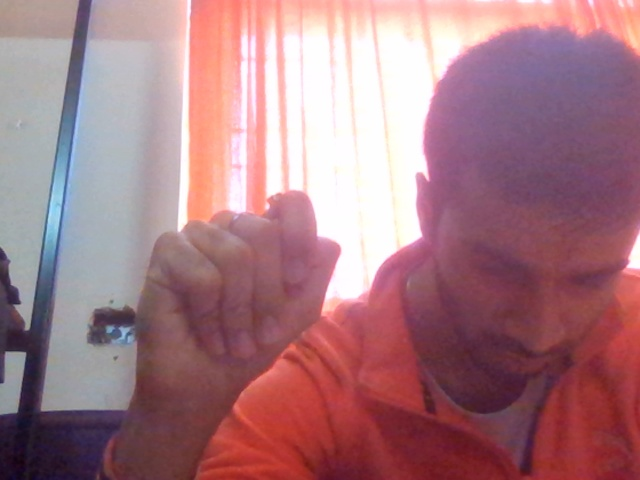T: (128, 166, 361, 455)
